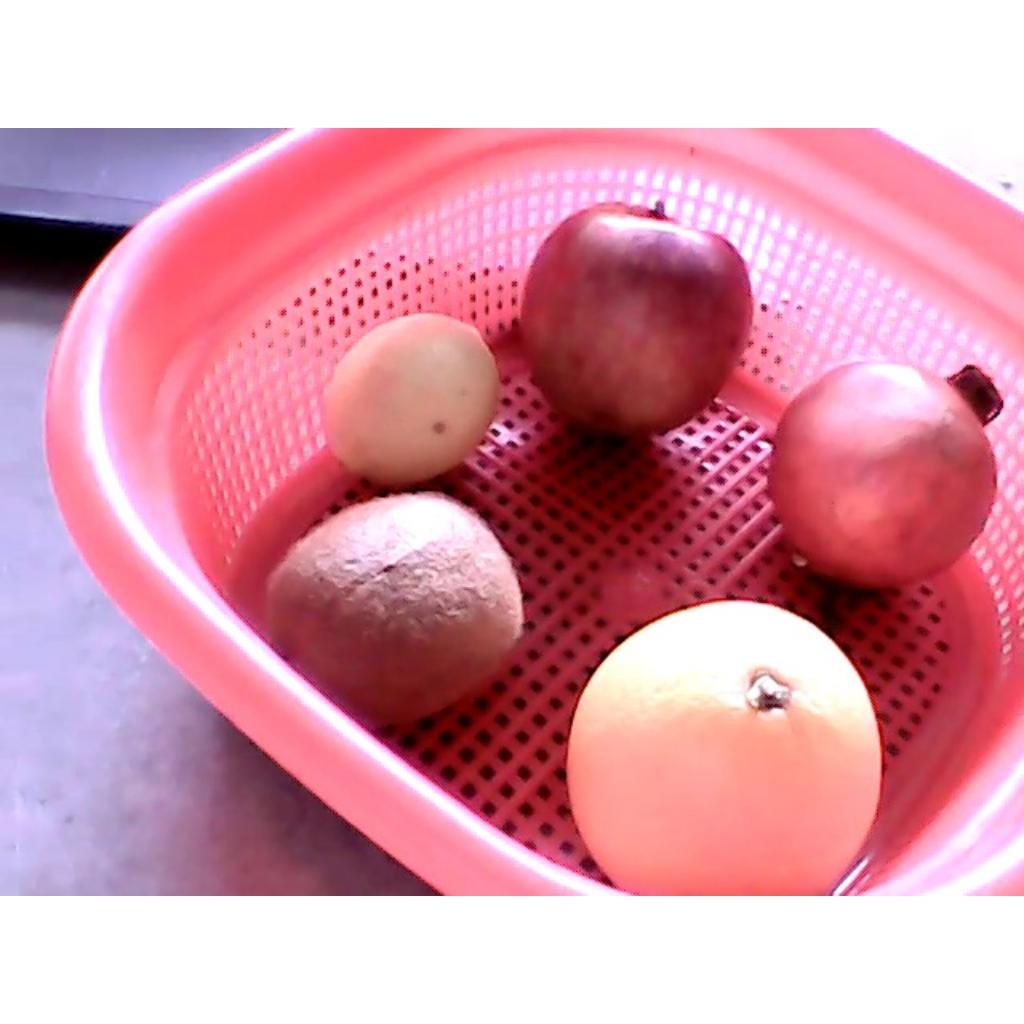apple: (523, 203, 754, 438)
kiwi: (263, 492, 526, 721)
lemon: (324, 312, 499, 486)
orange: (567, 598, 884, 894)
pomegranate: (770, 359, 999, 592)
